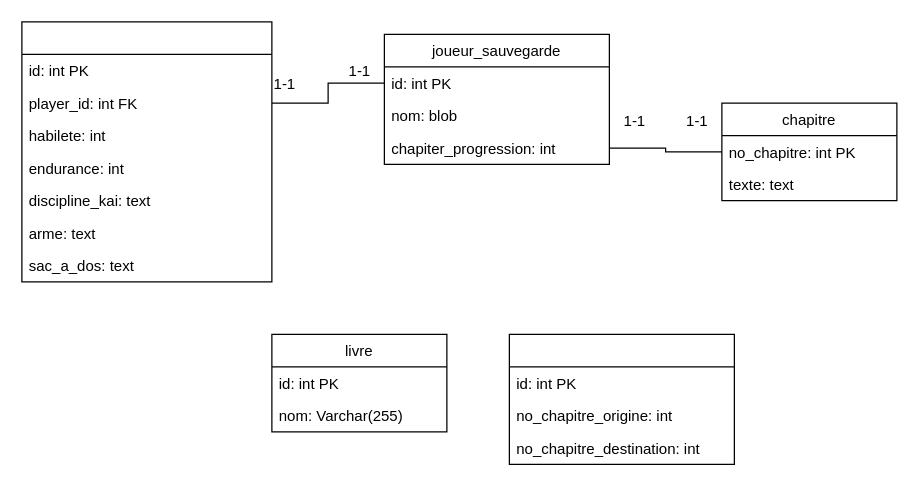
The diagram is 919 pixels wide and 490 high, and some of its shapes have lost their labels. Here are the shapes that lost their labels. From the top down, the box of each, then its label:
(21, 21, 272, 282): fiche_personagge
(508, 333, 734, 464): lien_chapitre
